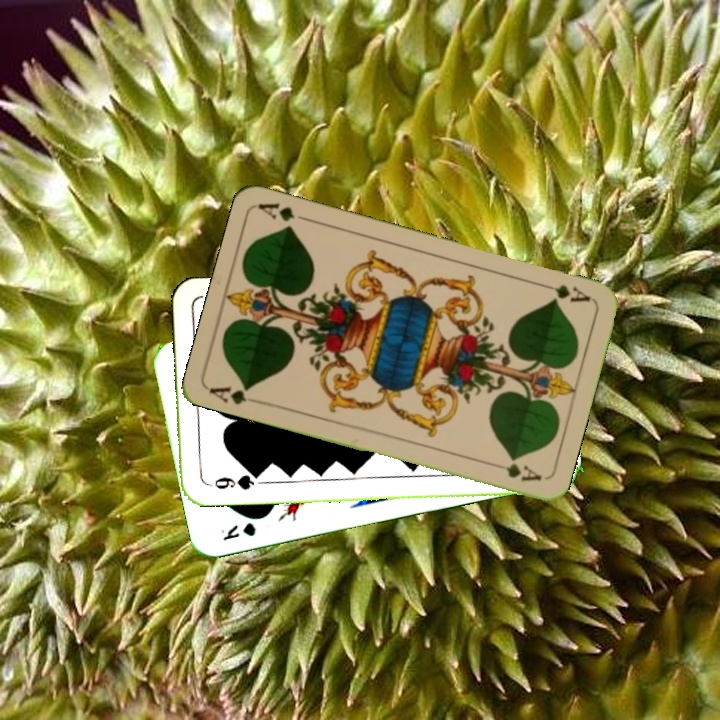G9: (202, 469, 261, 493)
GA: (205, 381, 265, 407), (536, 279, 593, 305)
GK: (217, 518, 259, 544)
